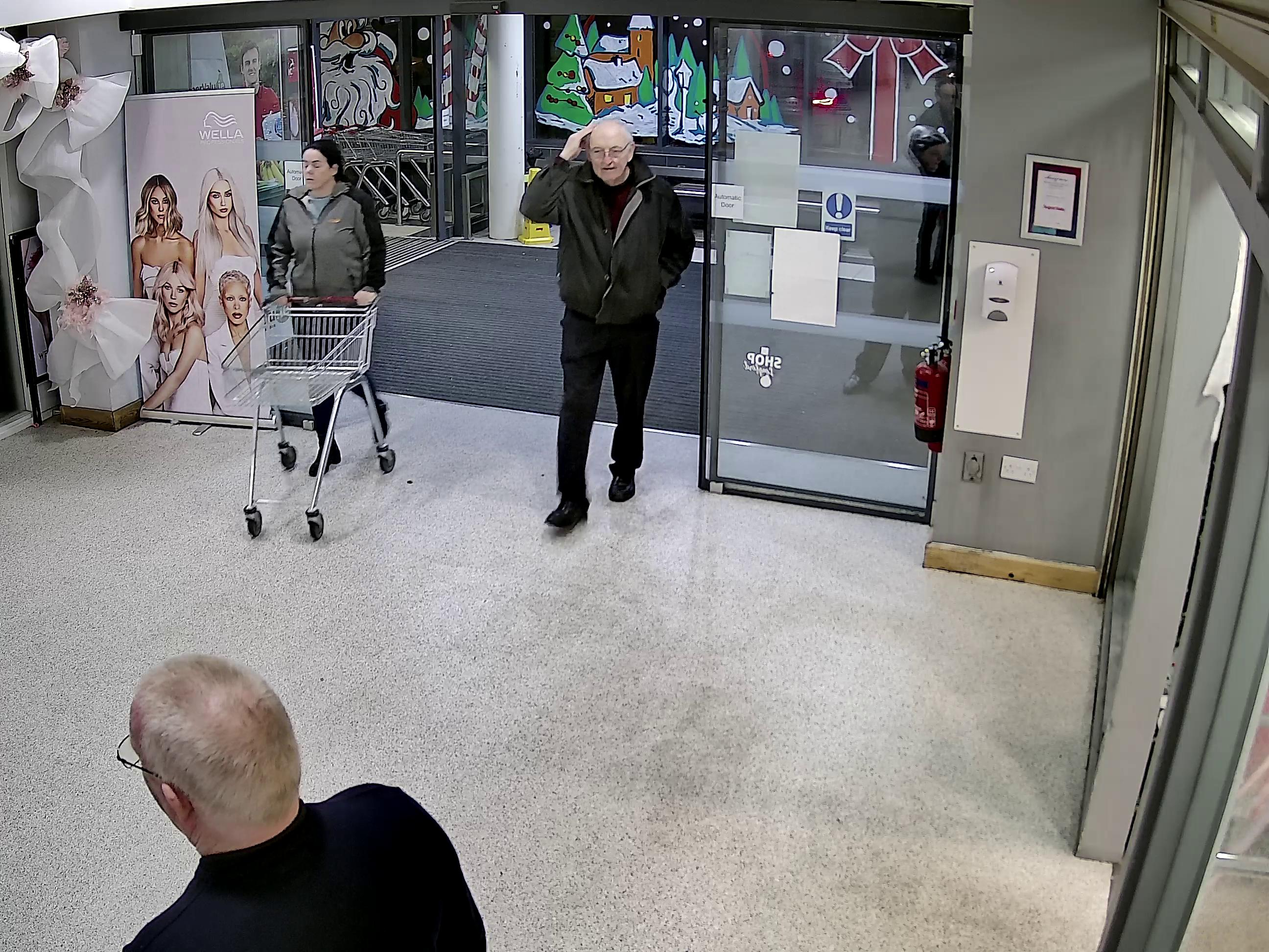empty-trolly: (224, 292, 396, 540)
person: (266, 140, 388, 478)
person-with-empty-basket-trolly: (225, 139, 396, 542)
